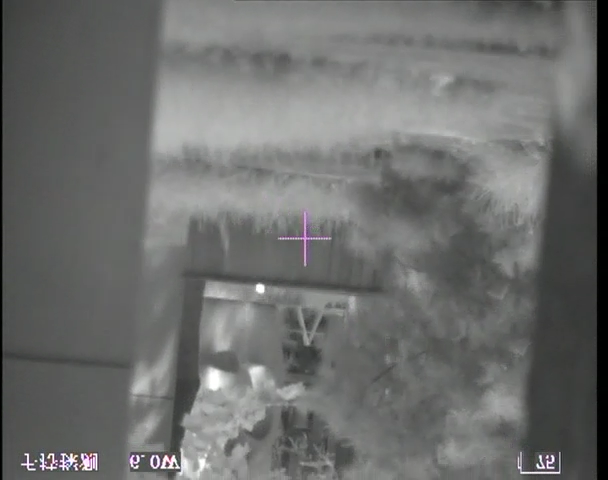my: (254, 281, 265, 293)
